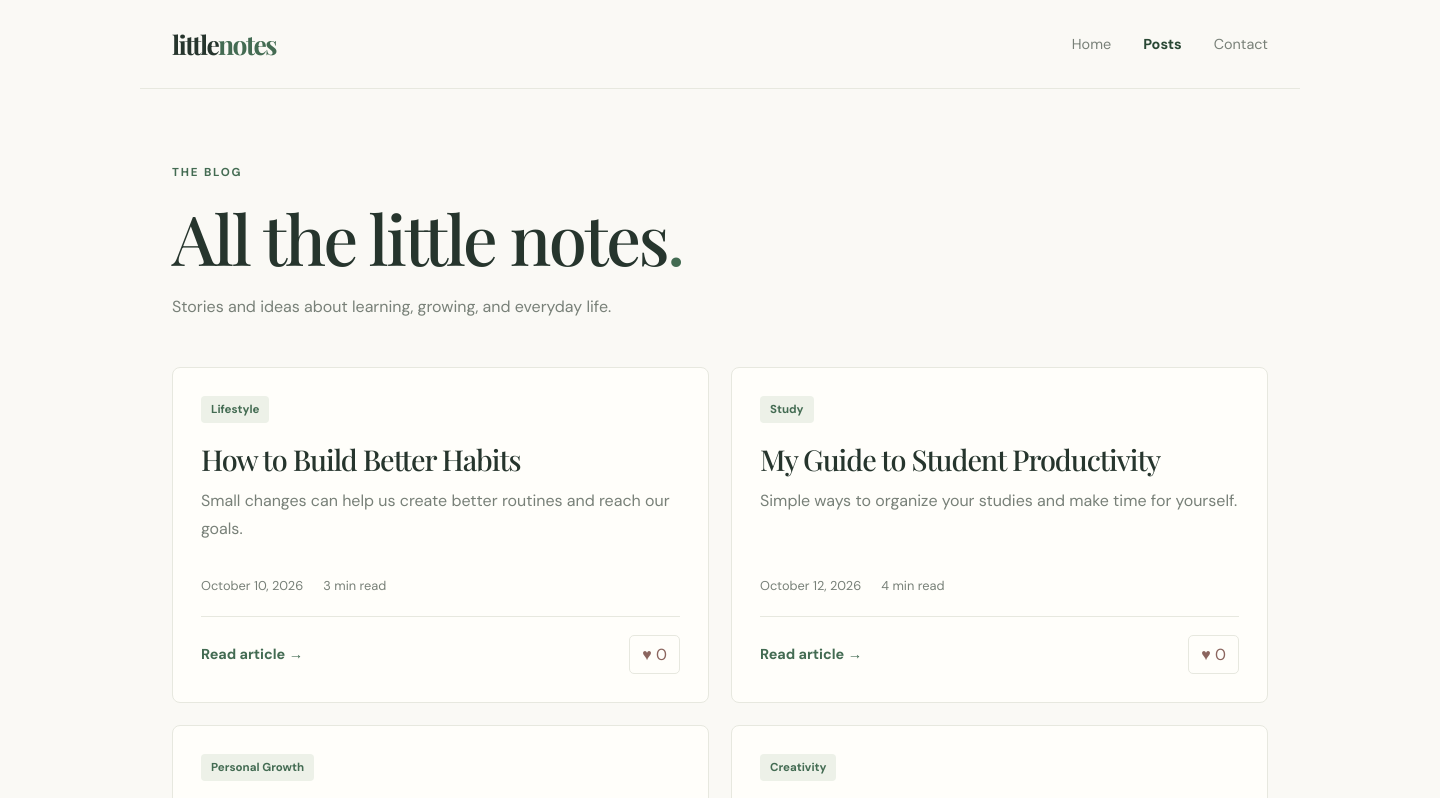
Test: Blog application › keeps likes independent for each post
Step 1. Click the button named "Like How to Build Better Habits" → point(655, 654), box [629,635,680,674]
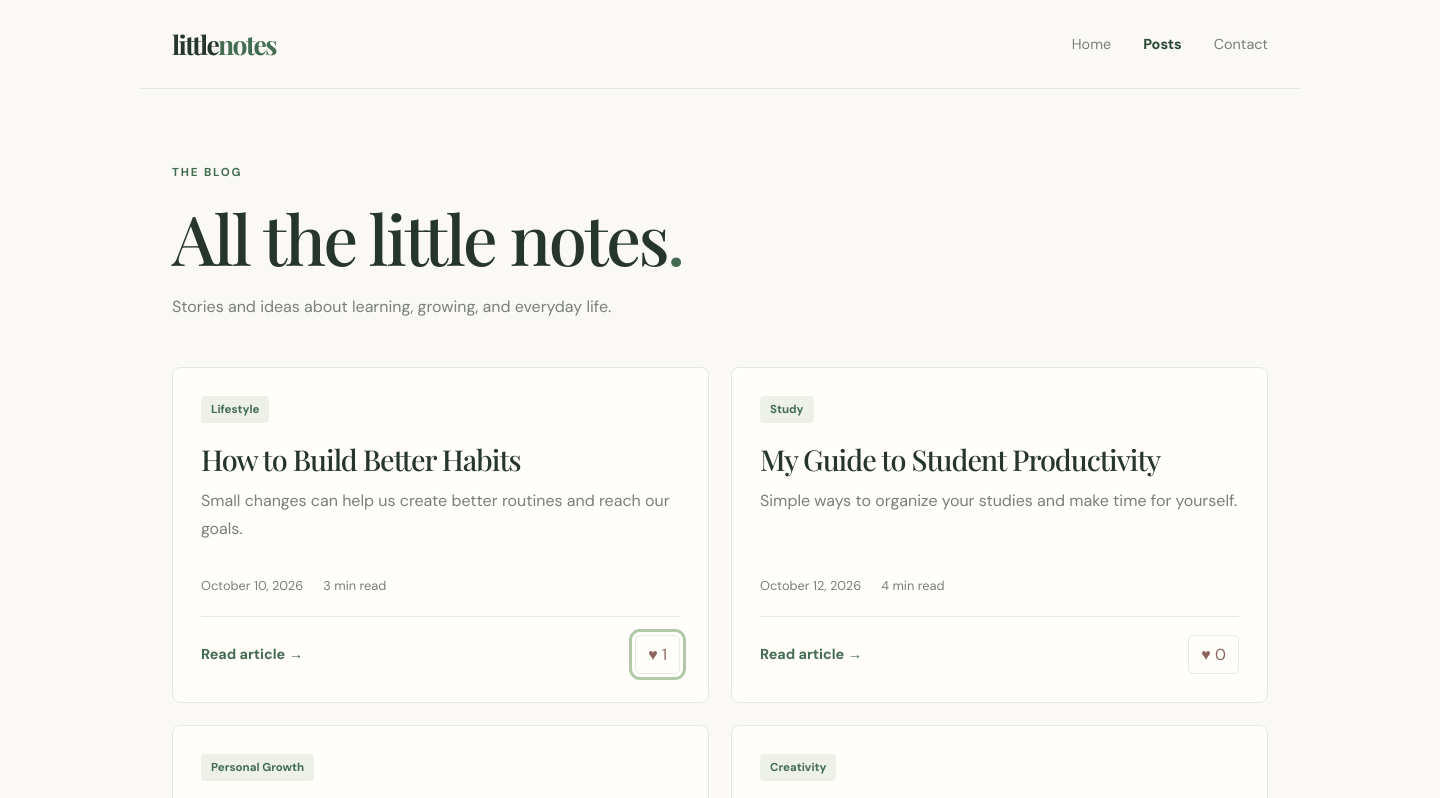
Step 2. Click the button named "Like How to Build Better Habits" → point(658, 654), box [635,635,680,674]
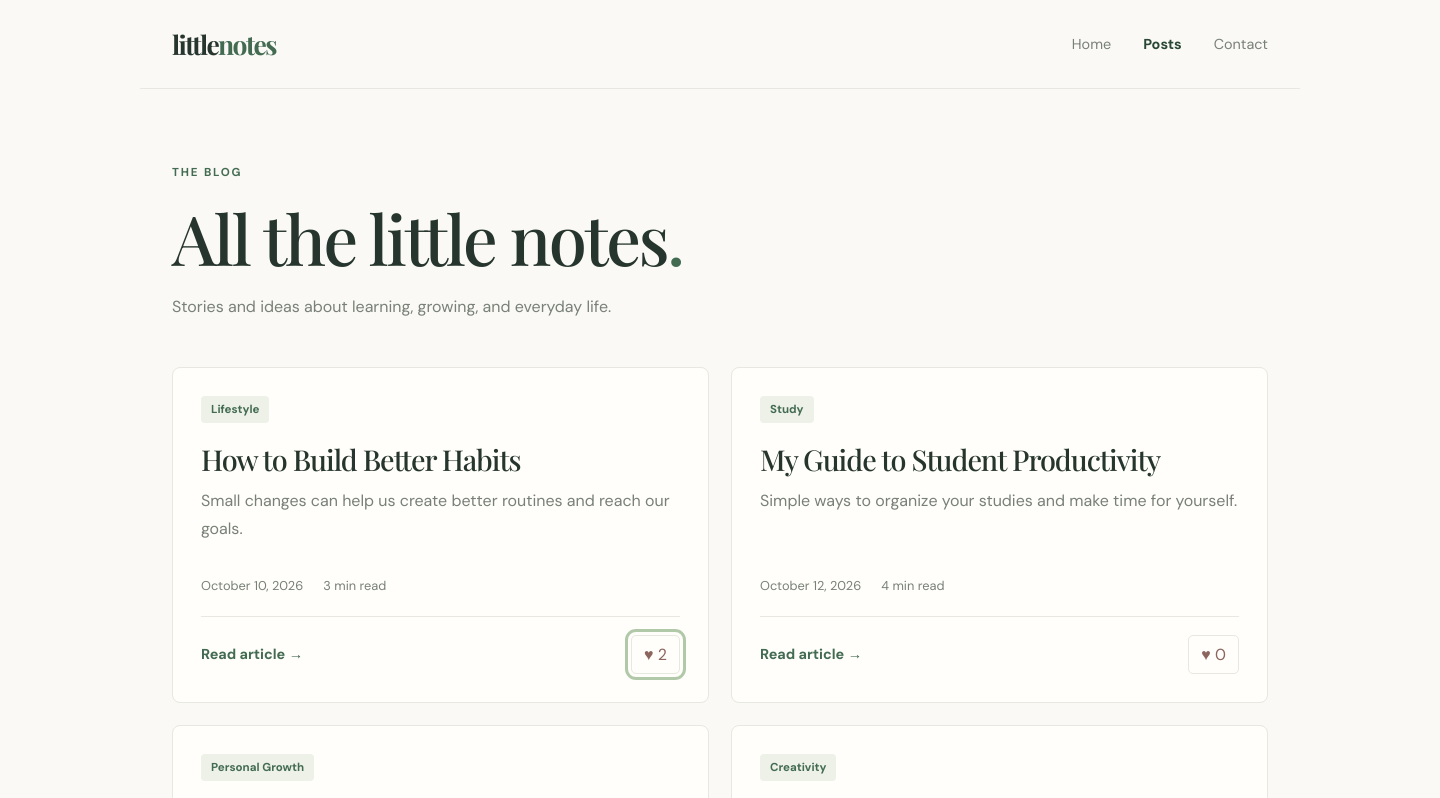
Step 3. Click the button named "Like My Guide to Student Productivity" → point(1214, 654), box [1188,635,1239,674]
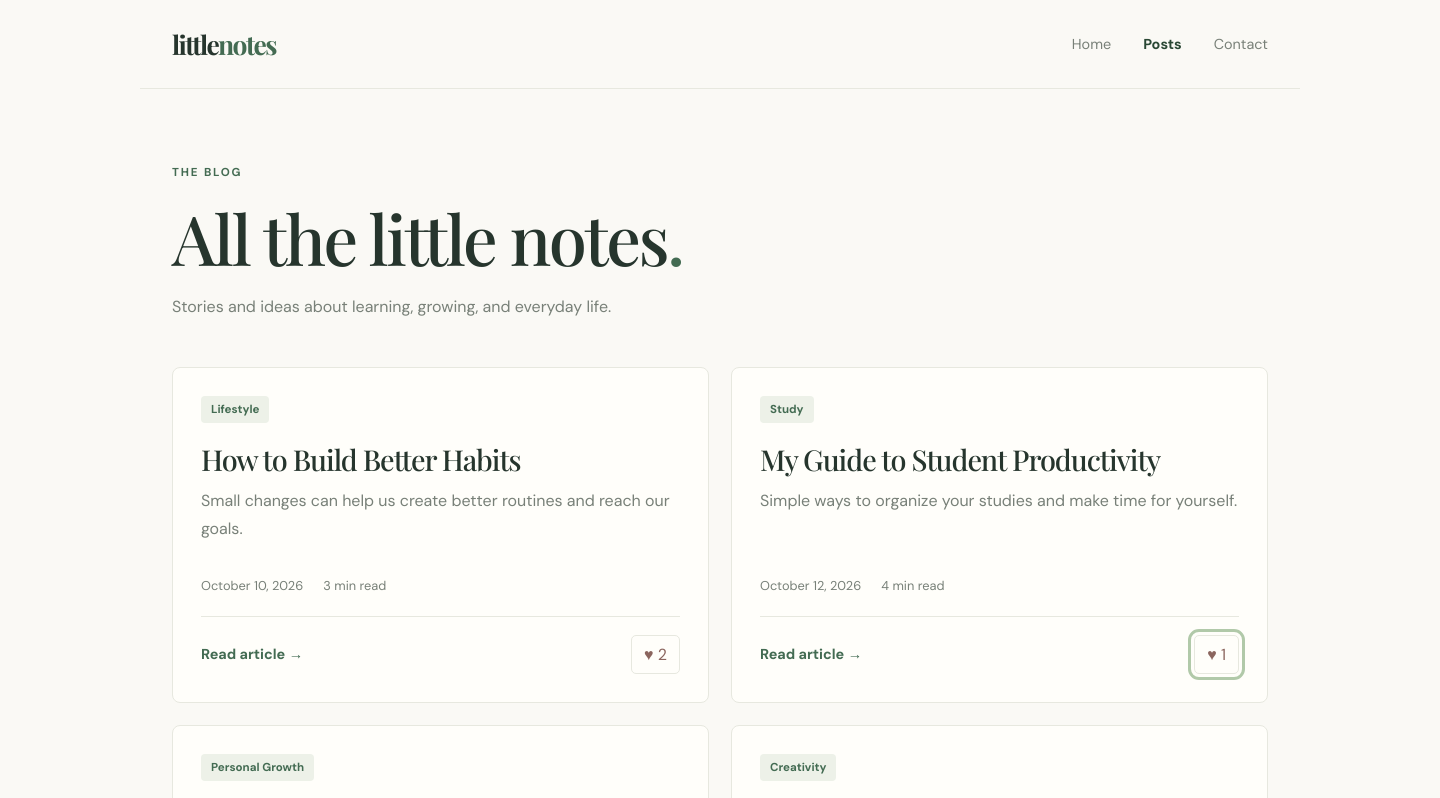
Expected: the button named "Like How to Build Better Habits" shows "2", [631,635,680,674]
Expected: the button named "Like My Guide to Student Productivity" shows "1", [1194,635,1239,674]
